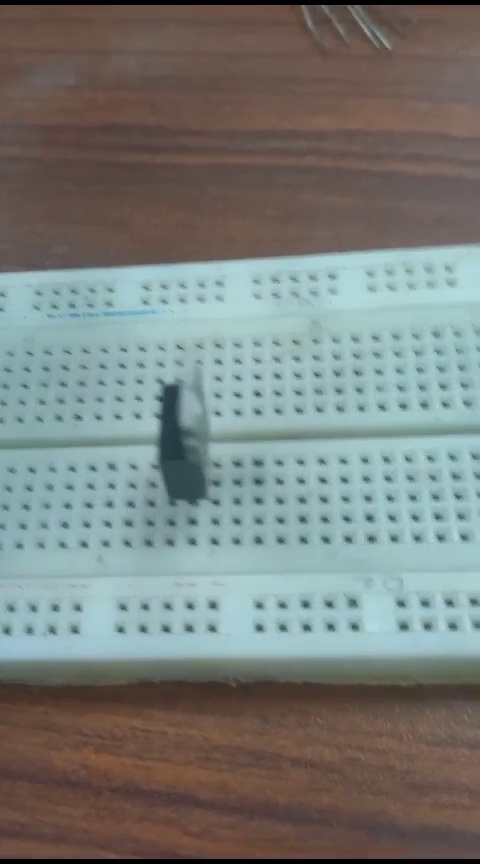voltage regulator: (138, 360, 226, 529)
